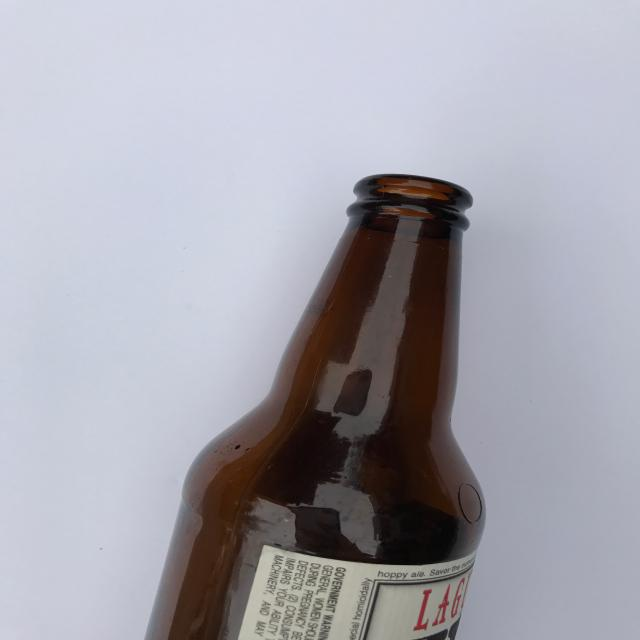glass: (143, 173, 488, 640)
